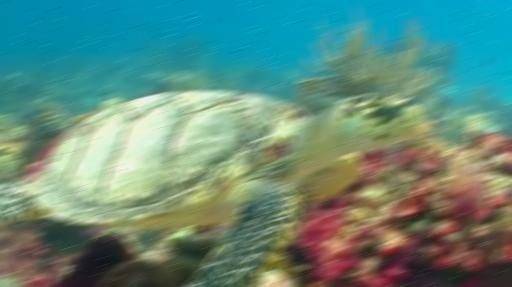Fish: (0, 90, 423, 286)
